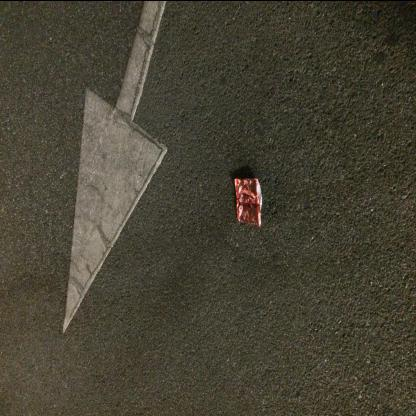plastik: (235, 178, 263, 227)
